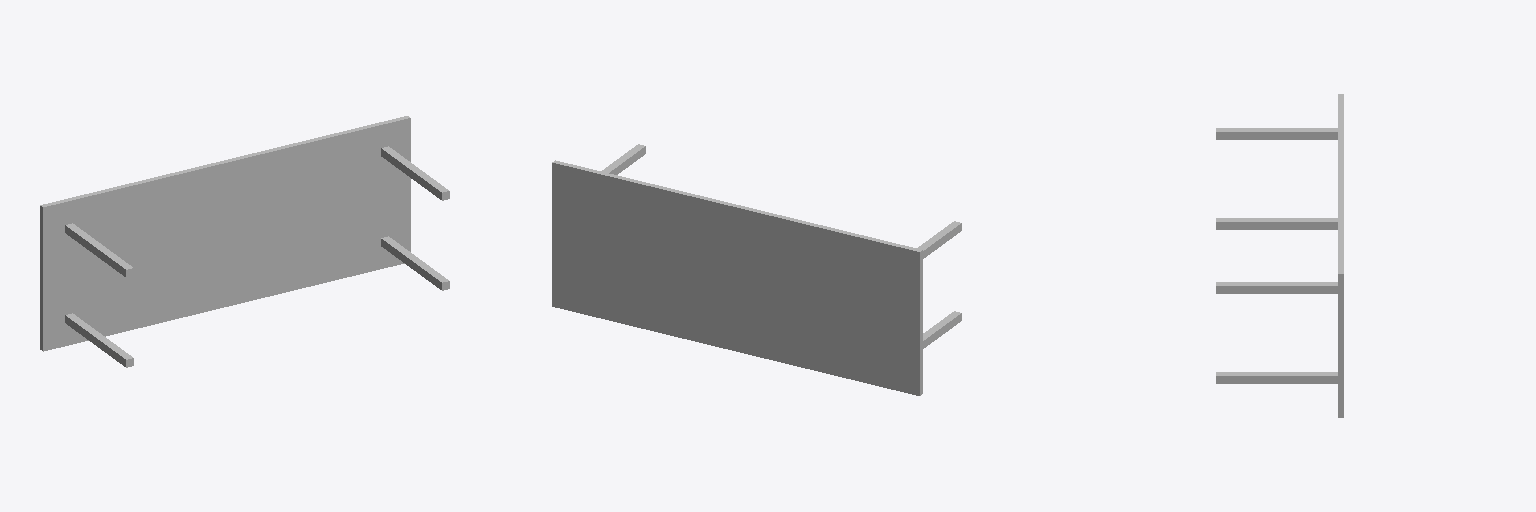
The model's file is random_table80.obj.
3 views of the same model, side by side, from view 1: azimuth 30°, elevation 25°; view 2: azimuth 150°, elevation 25°; view 3: azimuth 270°, elevation 25° (orthographic).
Visible parts, largest first — view 1: Table_Cube.1465, TableLeg0_Cube.1466, TableLeg1_Cube.1467, TableLeg2_Cube.1468, TableLeg3_Cube.1469; view 2: Table_Cube.1465, TableLeg1_Cube.1467, TableLeg3_Cube.1469, TableLeg0_Cube.1466; view 3: Table_Cube.1465, TableLeg0_Cube.1466, TableLeg1_Cube.1467, TableLeg2_Cube.1468, TableLeg3_Cube.1469.
Boxes of the visible parts, x1=… form: Table_Cube.1465: x1=40, y1=116, x2=410, y2=351; TableLeg0_Cube.1466: x1=381, y1=146, x2=449, y2=200; TableLeg1_Cube.1467: x1=65, y1=223, x2=133, y2=277; TableLeg2_Cube.1468: x1=381, y1=236, x2=449, y2=290; TableLeg3_Cube.1469: x1=65, y1=313, x2=133, y2=367; Table_Cube.1465: x1=552, y1=160, x2=922, y2=395; TableLeg1_Cube.1467: x1=917, y1=221, x2=961, y2=258; TableLeg3_Cube.1469: x1=923, y1=311, x2=961, y2=348; TableLeg0_Cube.1466: x1=601, y1=144, x2=645, y2=174; Table_Cube.1465: x1=1338, y1=94, x2=1343, y2=417; TableLeg0_Cube.1466: x1=1216, y1=282, x2=1337, y2=293; TableLeg1_Cube.1467: x1=1216, y1=128, x2=1337, y2=139; TableLeg2_Cube.1468: x1=1216, y1=372, x2=1337, y2=383; TableLeg3_Cube.1469: x1=1216, y1=218, x2=1337, y2=229.
Bounding box in the file's own units: 13.45 × 5.04 × 4.06.